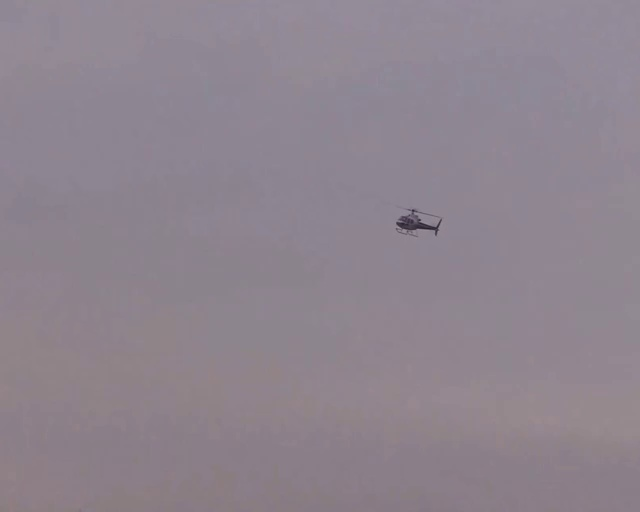HELICOPTER: (395, 204, 442, 238)
